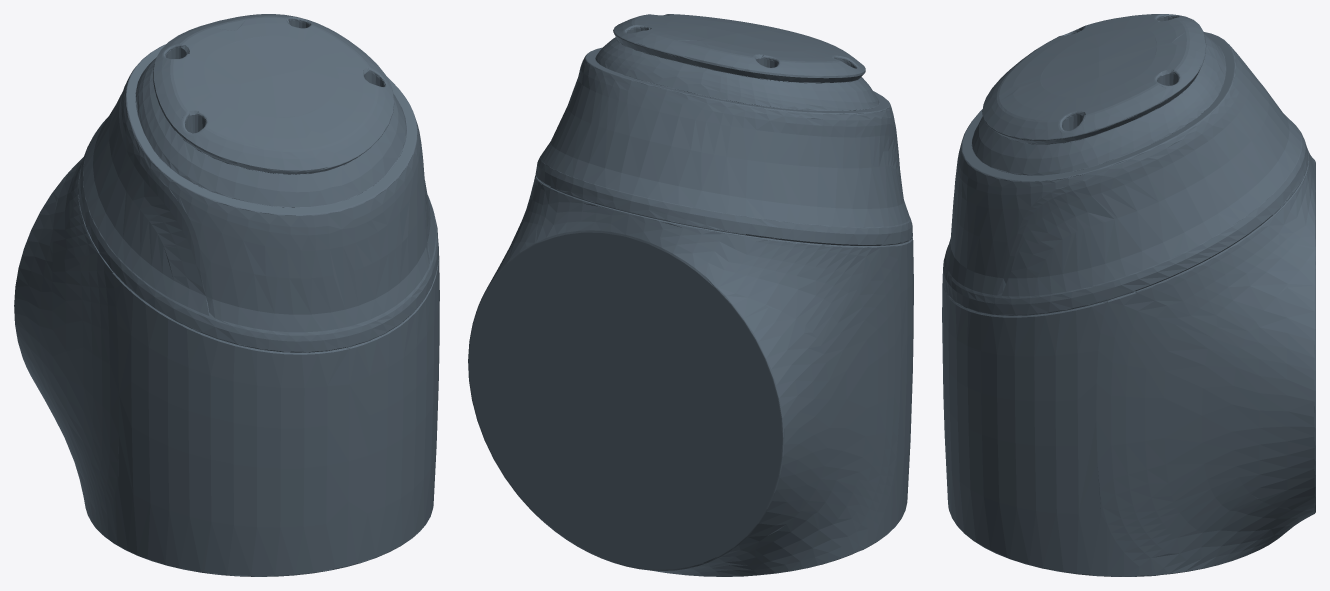
3 renders of one model, left to right at view 1: azimuth 30°, elevation 25°; view 2: azimuth 150°, elevation 25°; view 3: azimuth 270°, elevation 25°, orthographic. The views are drawn at different scales.
Parts seen in each view (by area): view 1: A0509_1_1; view 2: A0509_1_1; view 3: A0509_1_1.
Boxes of the visible parts, x1,y1,x2,y2 form: A0509_1_1: (14,14,439,576); A0509_1_1: (468,14,913,576); A0509_1_1: (942,14,1315,576).
Size of the model in its own units: 122 by 125 by 170.
